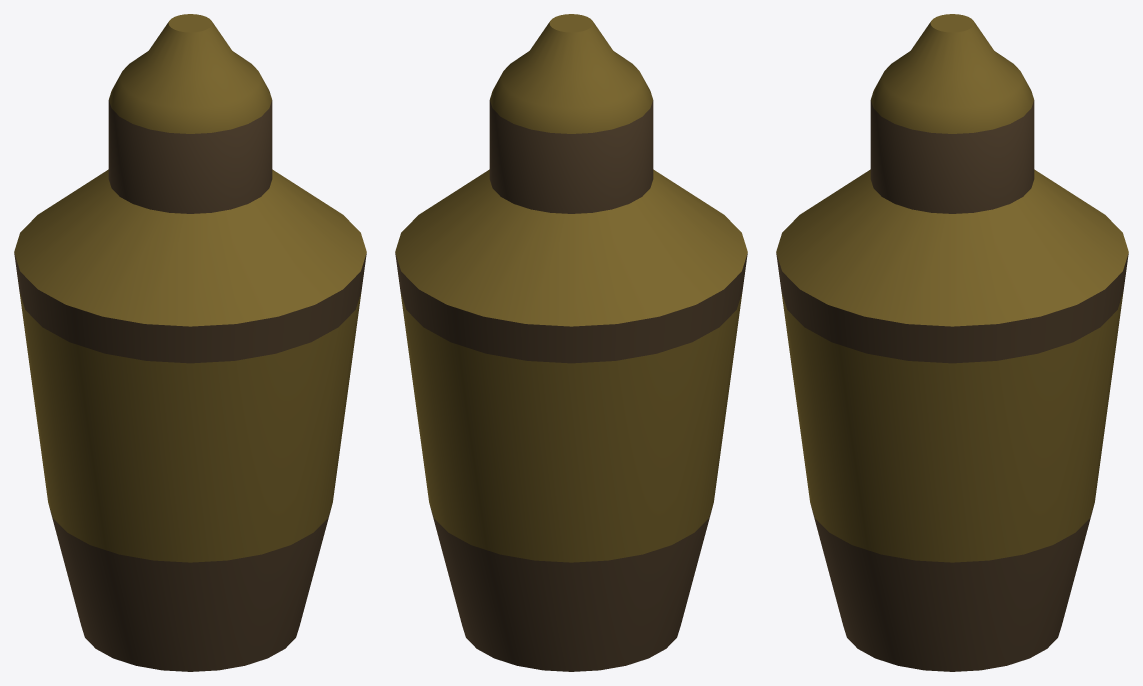
The model's file is urn.fbx.
3 renders of one model, left to right at view 1: azimuth 30°, elevation 25°; view 2: azimuth 150°, elevation 25°; view 3: azimuth 270°, elevation 25°, orthographic.
Parts seen in each view (by area): view 1: Urn; view 2: Urn; view 3: Urn.
Part boxes in pixels (x1=…): Urn: x1=14, y1=14, x2=366, y2=671; Urn: x1=395, y1=14, x2=747, y2=671; Urn: x1=776, y1=14, x2=1128, y2=671.
Bounding box in the file's own units: 104 × 104 × 197.
